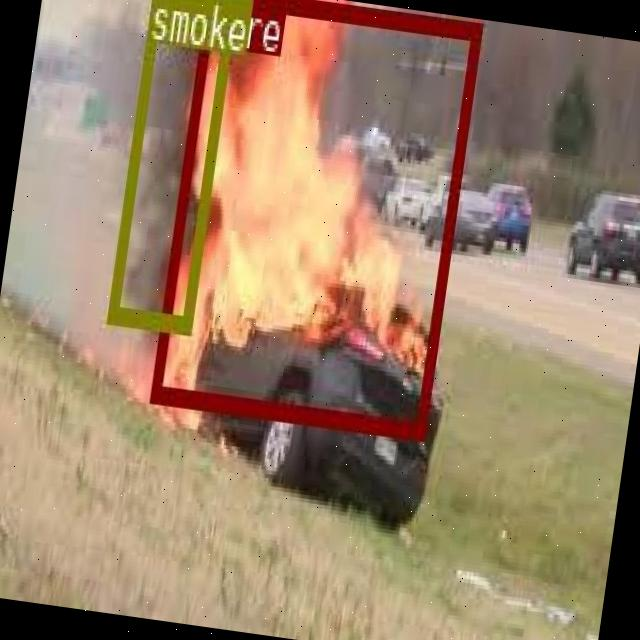fire: (150, 0, 481, 435)
smoke: (106, 0, 237, 329)
